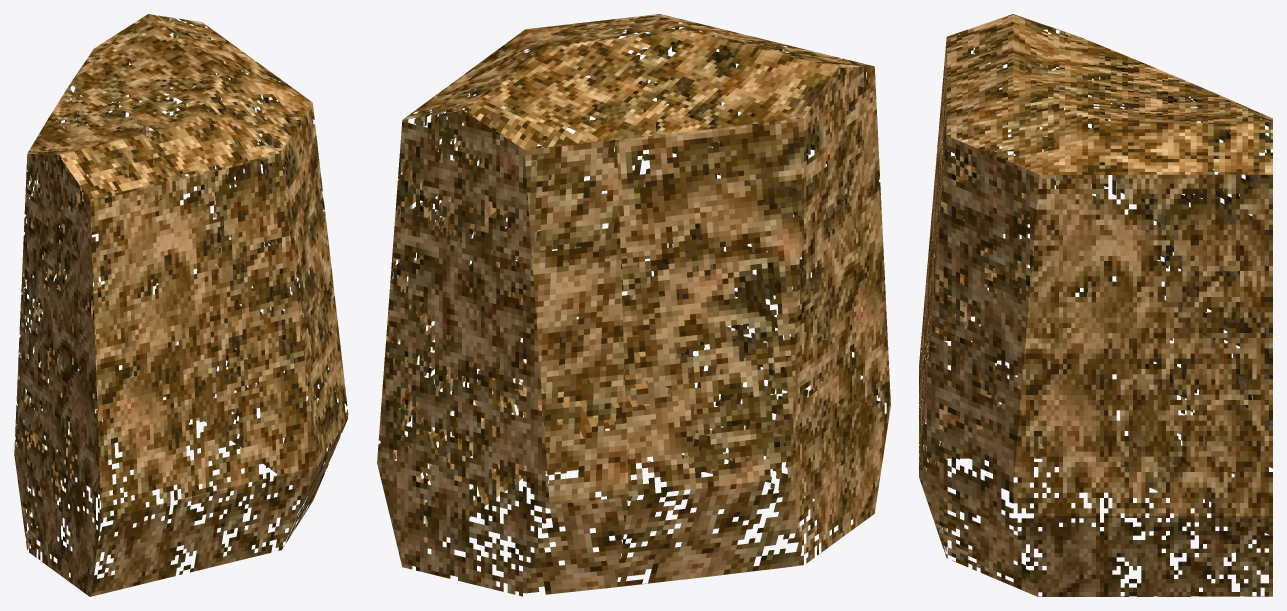
File: bush_long_round_corner_filled_autumn.glb
The picture shows the model from 3 angles, left to right: view 1: azimuth 30°, elevation 25°; view 2: azimuth 150°, elevation 25°; view 3: azimuth 270°, elevation 25°; orthographic projection. The views are drawn at different scales.
Parts seen in each view (by area): view 1: bush_long_round_corner_filled_autumn; view 2: bush_long_round_corner_filled_autumn; view 3: bush_long_round_corner_filled_autumn.
Part boxes in pixels (box(x1,y1,x2,y2)): bush_long_round_corner_filled_autumn: box(14, 14, 348, 596); bush_long_round_corner_filled_autumn: box(377, 14, 890, 596); bush_long_round_corner_filled_autumn: box(919, 14, 1272, 596).
Size of the model in its own units: 1.36 by 1.88 by 1.35.
Materials: 1 (1 with a texture image).
